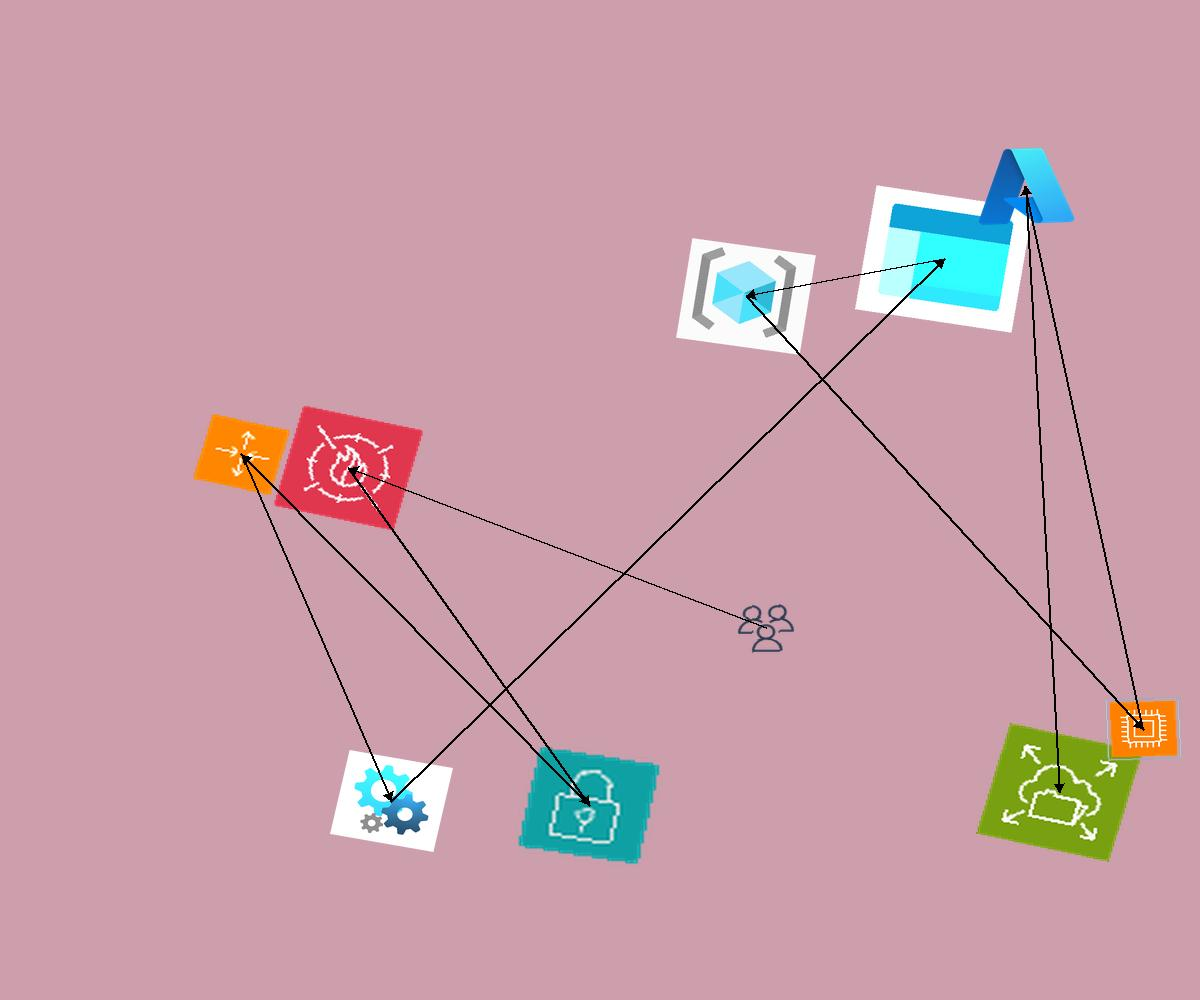AWS-Category_Compute: (1105, 697, 1182, 761)
AWS-EFS: (976, 723, 1143, 862)
AWS-Private-subnet: (516, 745, 662, 866)
AWS-Res_Users: (733, 601, 799, 656)
AWS-Scaling-group: (192, 413, 291, 496)
AWS-WAF: (273, 405, 424, 531)
Azure_api: (330, 750, 453, 852)
Azure_management-portal: (855, 185, 1033, 333)
Azure_resource_group: (676, 238, 816, 355)
Azure_services: (971, 141, 1079, 231)
